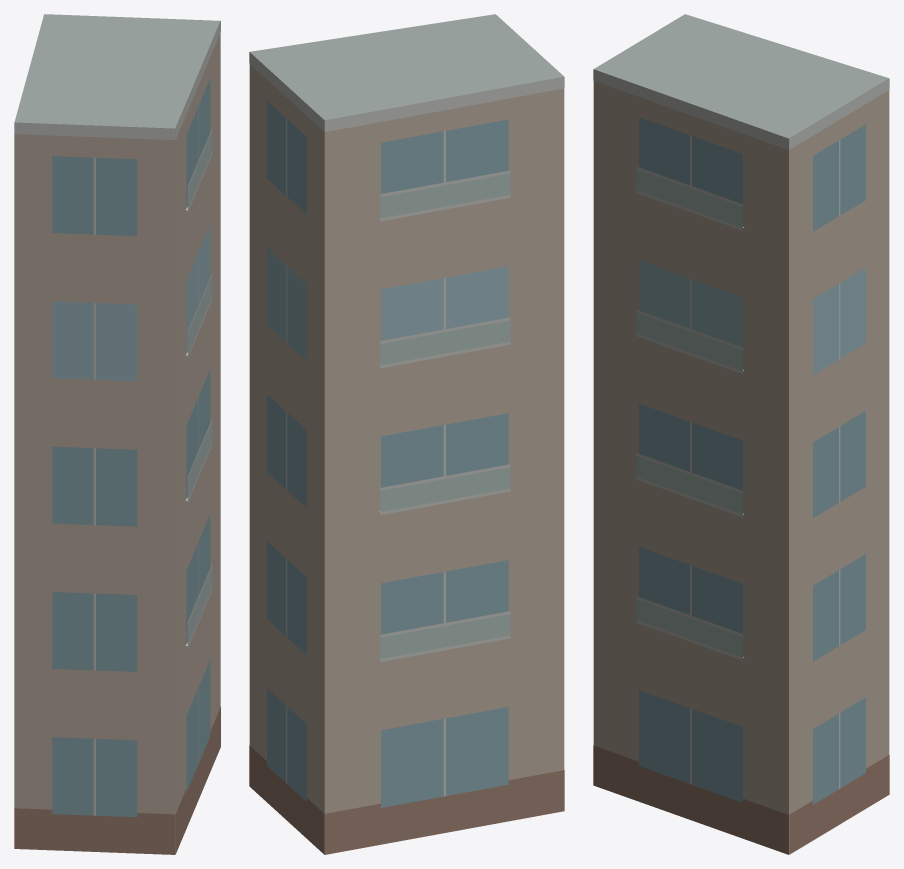
Rendered from survey-upis-32543010.glb.
The picture shows the model from 3 angles, left to right: view 1: azimuth 30°, elevation 25°; view 2: azimuth 150°, elevation 25°; view 3: azimuth 270°, elevation 25°; orthographic projection. The views are drawn at different scales.
Visible parts, largest first — view 1: survey-upis-32543010.tmp; view 2: survey-upis-32543010.tmp; view 3: survey-upis-32543010.tmp.
Boxes of the visible parts, x1,y1,x2,y2 form: survey-upis-32543010.tmp: (14,14,220,854); survey-upis-32543010.tmp: (249,14,564,854); survey-upis-32543010.tmp: (593,14,889,854).
Bounding box in the file's own units: 5.7 × 15.25 × 5.72.
